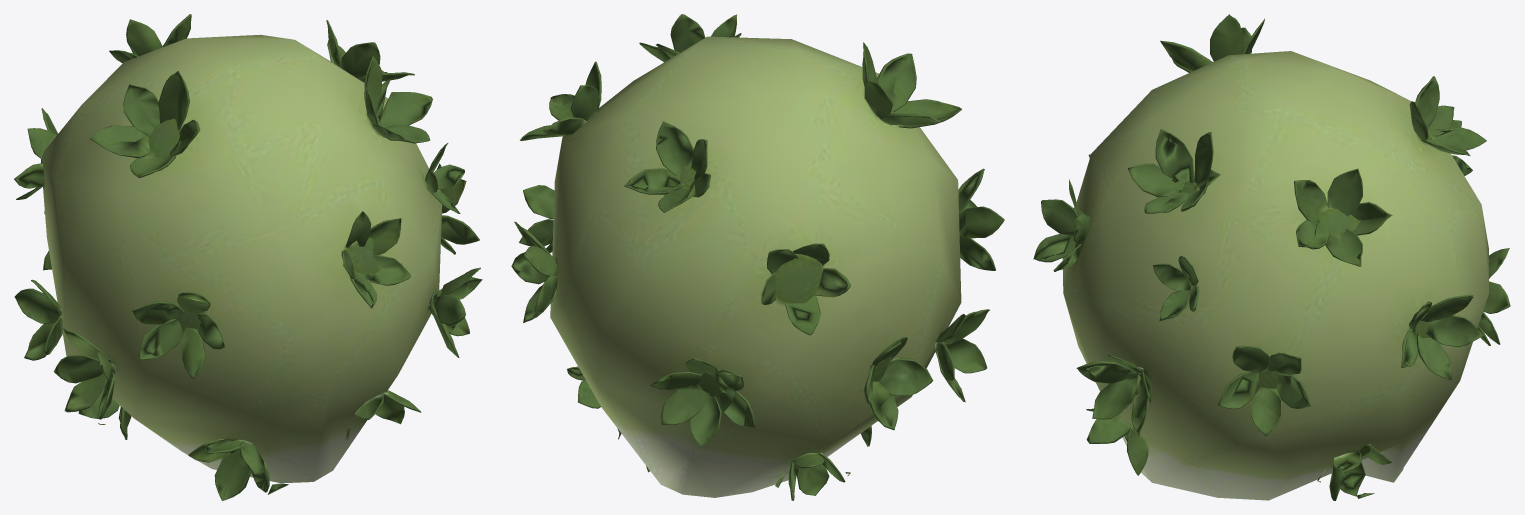
Rendered from bush_round.glb.
3 views of the same model, side by side, from view 1: azimuth 30°, elevation 25°; view 2: azimuth 150°, elevation 25°; view 3: azimuth 270°, elevation 25° (orthographic). The views are drawn at different scales.
Visible parts, largest first — view 1: tripo_node_ad0b3fc9-6e47-45b9-8e51-6c9f005e415a; view 2: tripo_node_ad0b3fc9-6e47-45b9-8e51-6c9f005e415a; view 3: tripo_node_ad0b3fc9-6e47-45b9-8e51-6c9f005e415a.
Boxes of the visible parts, x1=… form: tripo_node_ad0b3fc9-6e47-45b9-8e51-6c9f005e415a: x1=14, y1=14, x2=482, y2=500; tripo_node_ad0b3fc9-6e47-45b9-8e51-6c9f005e415a: x1=511, y1=14, x2=1004, y2=500; tripo_node_ad0b3fc9-6e47-45b9-8e51-6c9f005e415a: x1=1033, y1=14, x2=1510, y2=500.
Bounding box in the file's own units: 0.998 × 0.9863 × 0.998.
Materials: 1 (1 with a texture image).
